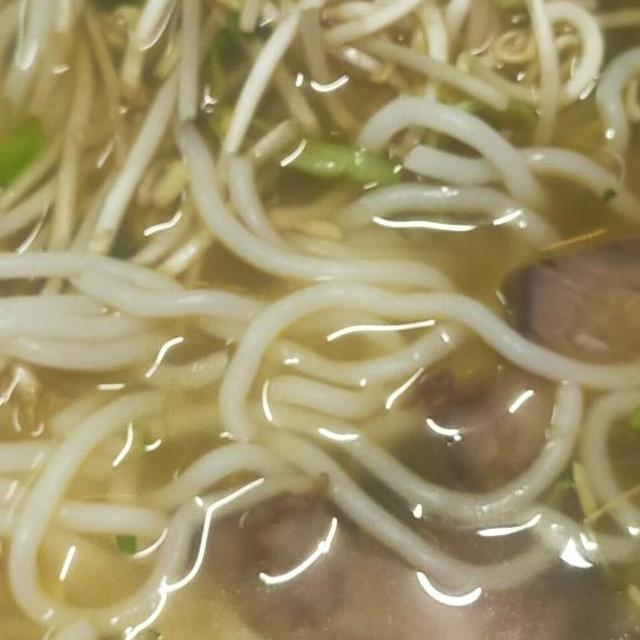bun: (0, 20, 478, 640), (320, 22, 640, 275)
bun bo: (0, 0, 640, 640)
thit bo: (403, 39, 640, 527), (195, 449, 640, 640)
